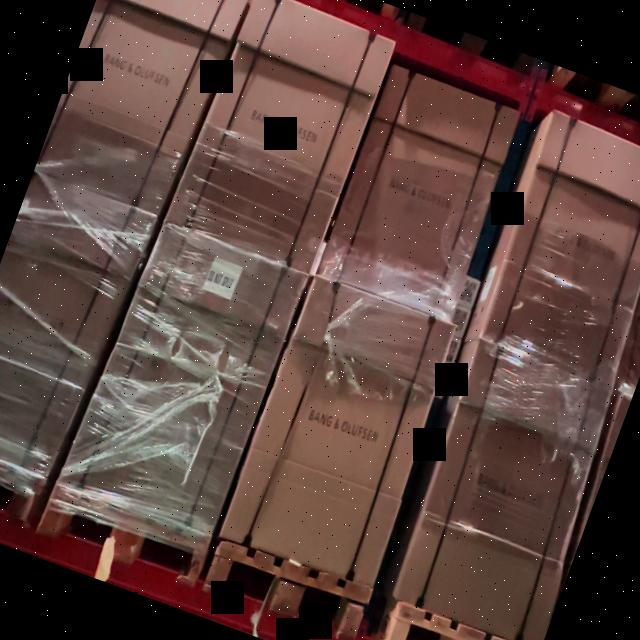box: (60, 224, 309, 539), (219, 275, 456, 587), (393, 341, 610, 640), (165, 0, 396, 274), (317, 65, 520, 322), (480, 110, 640, 395)
